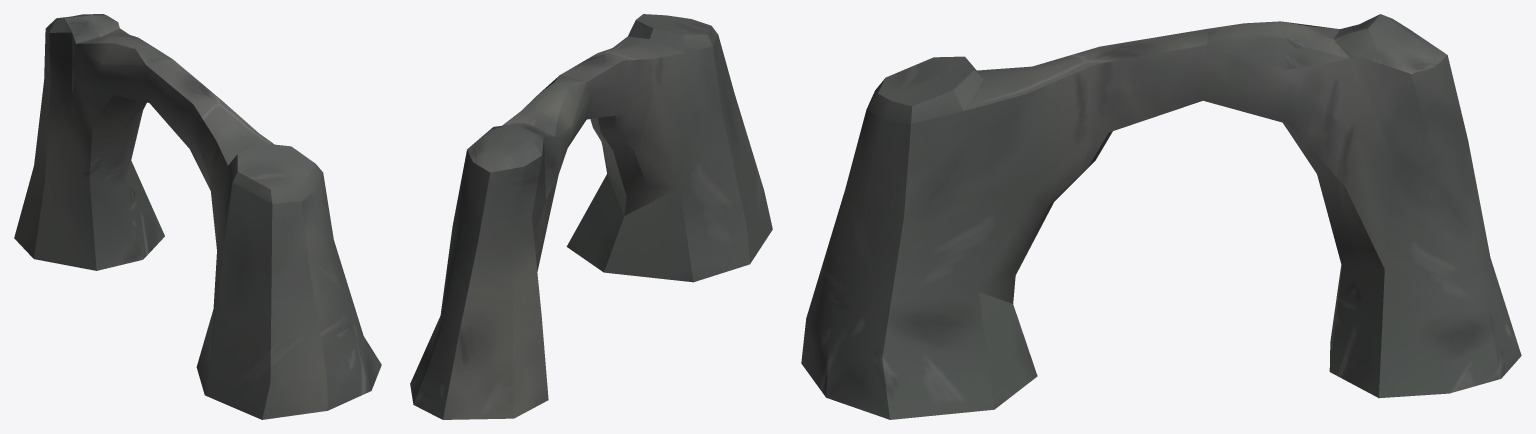
File: Portal_LowPoly.fbx
3 views of the same model, side by side, from view 1: azimuth 30°, elevation 25°; view 2: azimuth 150°, elevation 25°; view 3: azimuth 270°, elevation 25° (orthographic). The views are drawn at different scales.
Visible parts, largest first — view 1: rock_portal; view 2: rock_portal; view 3: rock_portal.
Part boxes in pixels (bbox=[...]): rock_portal: bbox=[14, 14, 381, 419]; rock_portal: bbox=[410, 14, 772, 419]; rock_portal: bbox=[801, 14, 1521, 419].
Size of the model in its own units: 184 by 264 by 528.
